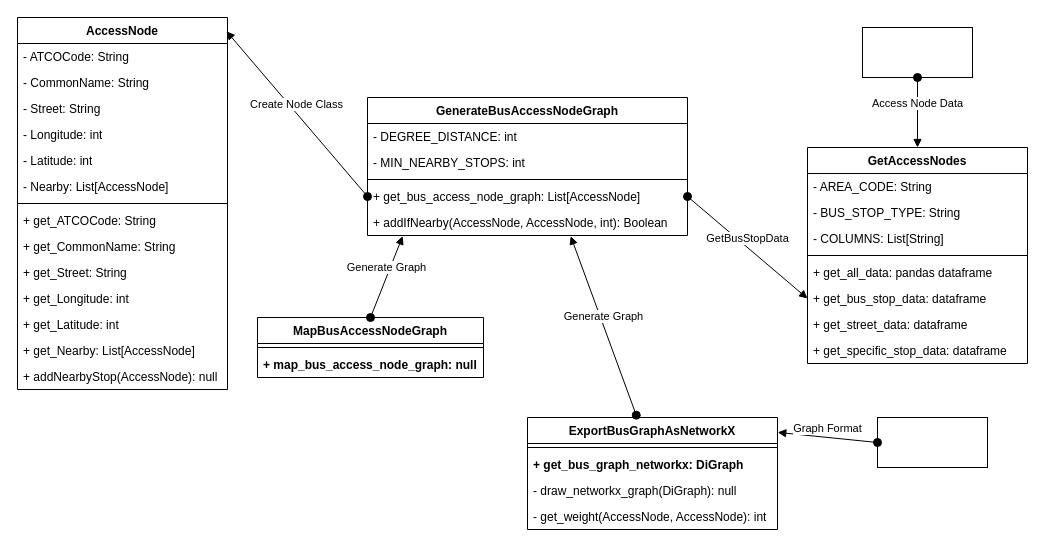
Some shapes in this 1045 by 550 pixel diagram are drawn without their labels. The centre of each missing label's shape, as x and y in pixels:
<<module>> naptan: [917,52]
<<module>> networkx: [932,442]
